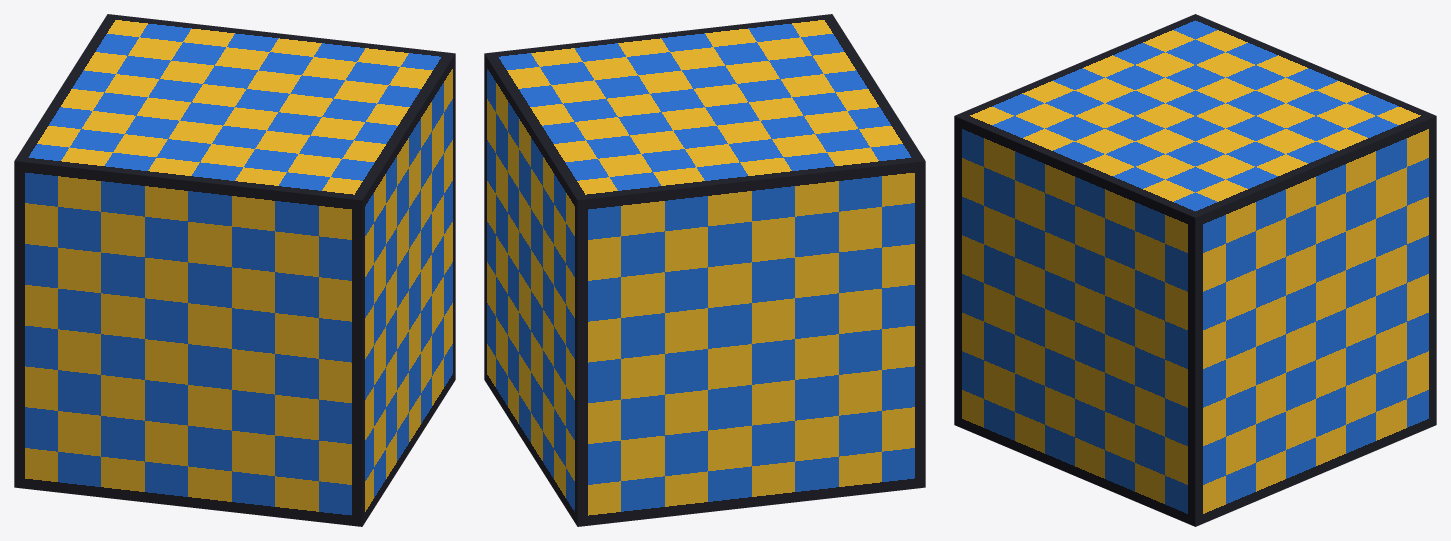
3 renders of one model, left to right at view 1: azimuth 30°, elevation 25°; view 2: azimuth 150°, elevation 25°; view 3: azimuth 270°, elevation 25°, orthographic. The views are drawn at different scales.
Bounding box in the file's own units: 1.41 × 1 × 1.41.
1 material, 1 textured.
